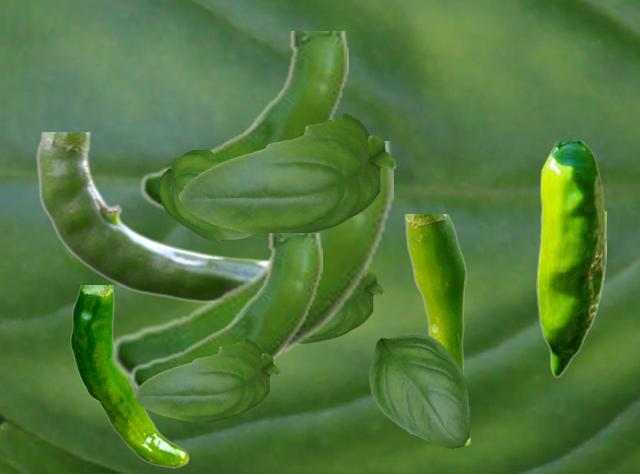green_chili: (109, 141, 392, 385), (36, 132, 267, 304), (139, 31, 347, 212), (129, 233, 321, 390), (70, 285, 188, 467), (536, 141, 605, 376), (405, 214, 469, 444)
